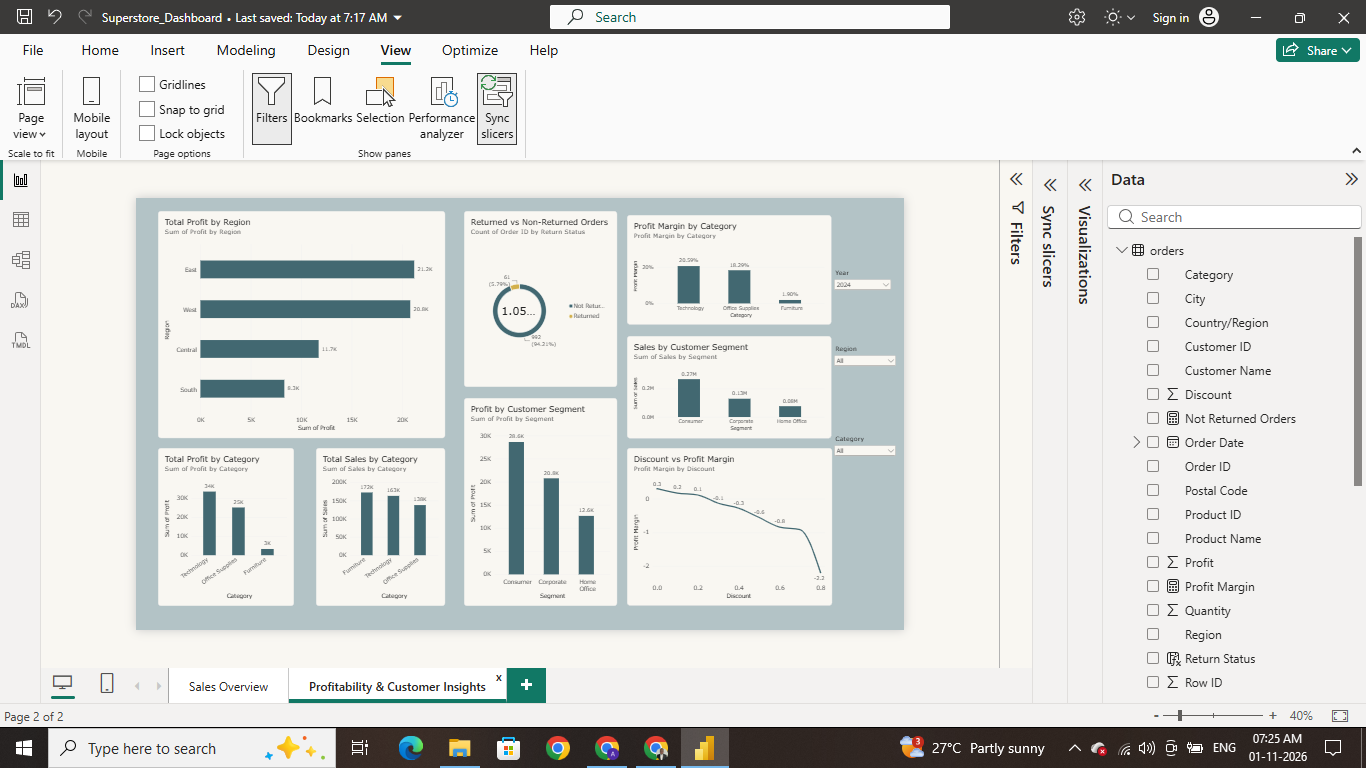

What the dashboard file says about the page in this screenshot:
{"tool":"powerbi","page":{"name":"Profitability & Customer Insights","canvas":[1920,1080],"ordinal":1},"visuals":[{"type":"clusteredColumnChart","title":"Total Sales by Category","fields":{"Category":["orders.Category"],"Y":["Sum(orders.Sales)"]},"box":[450,625,322.5,395],"z":6000},{"type":"clusteredColumnChart","title":"Total Profit by Category","fields":{"Category":["orders.Category"],"Y":["Sum(orders.Profit)"]},"box":[55,625,340,395],"z":7000},{"type":"clusteredColumnChart","title":"Profit Margin by Category","fields":{"Category":["orders.Category"],"Y":["orders.Profit Margin"]},"box":[1227.8,42.6,511.1,274.1],"z":8000},{"type":"clusteredBarChart","title":"Total Profit by Region","fields":{"Category":["orders.Region"],"Y":["Sum(orders.Profit)"]},"box":[55,32.5,717.5,567.5],"z":10000},{"type":"clusteredColumnChart","title":"Sales by Customer Segment","fields":{"Category":["orders.Segment"],"Y":["Sum(orders.Sales)"]},"box":[1227.8,344.4,511.1,255.6],"z":14000},{"type":"lineChart","title":"Discount vs Profit Margin","fields":{"Category":["orders.Discount"],"Y":["orders.Profit Margin"]},"box":[1227.8,625.9,513,394.4],"z":15000},{"type":"donutChart","title":"Returned vs Non-Returned Orders","fields":{"Category":["orders.Return Status","returns.Returned"],"Y":["Count(orders.Order ID)"]},"box":[820,32.5,382.5,440],"z":16000},{"type":"clusteredColumnChart","title":"Profit by Customer Segment","fields":{"Category":["orders.Segment"],"Y":["Sum(orders.Profit)"]},"box":[820,500,382.5,520],"z":17000},{"type":"slicer","fields":{"Values":["orders.Order Date.Variation.Date Hierarchy.Year"]},"box":[1740,177.5,152.5,115],"z":17001},{"type":"slicer","fields":{"Values":["people.Region"]},"box":[1739.7,366.7,165.1,139.7],"z":17002},{"type":"slicer","fields":{"Values":["orders.Category"]},"box":[1739.7,593.7,165.1,107.9],"z":17003}]}

Visuals, with their boxes on the page's 1920x1080 design canvas (x1, y1, x2, y2). These are canvas units, not pixel positions in the 1366x768 screenshot, which may show the page scaled, cropped or inside an application window:
"Total Sales by Category" clusteredColumnChart: 450/625/772/1020
"Total Profit by Category" clusteredColumnChart: 55/625/395/1020
"Profit Margin by Category" clusteredColumnChart: 1228/43/1739/317
"Total Profit by Region" clusteredBarChart: 55/32/772/600
"Sales by Customer Segment" clusteredColumnChart: 1228/344/1739/600
"Discount vs Profit Margin" lineChart: 1228/626/1741/1020
"Returned vs Non-Returned Orders" donutChart: 820/32/1202/472
"Profit by Customer Segment" clusteredColumnChart: 820/500/1202/1020
slicer - orders.Order Date.Variation.Date Hierarchy.Year: 1740/178/1892/292
slicer - people.Region: 1740/367/1905/506
slicer - orders.Category: 1740/594/1905/702
